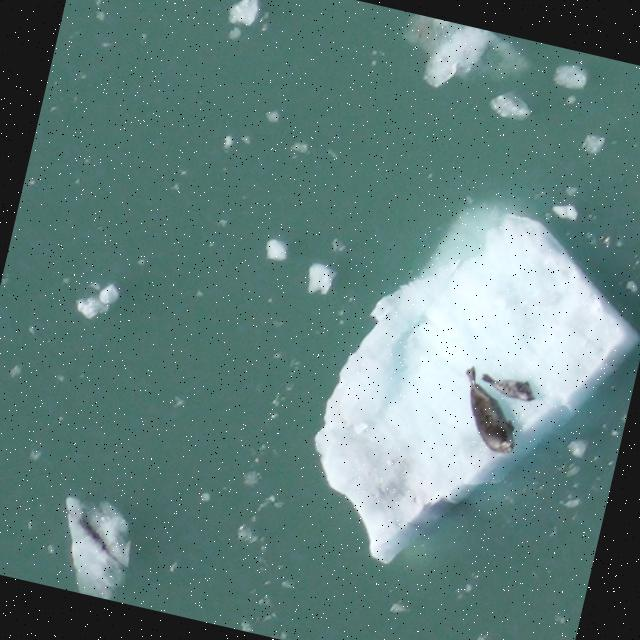seal: (447, 362, 531, 459), (473, 364, 544, 408)
